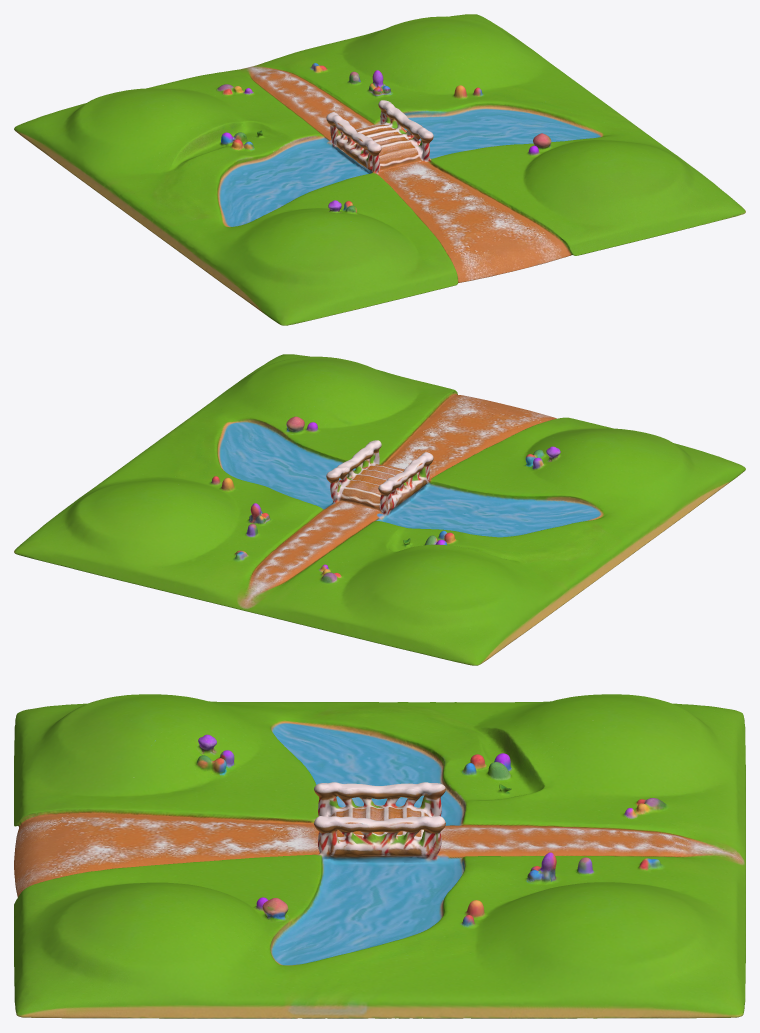
Rendered from SugarBridge-Region2.glb.
3 renders of one model, top to bottom at view 1: azimuth 30°, elevation 25°; view 2: azimuth 150°, elevation 25°; view 3: azimuth 270°, elevation 25°, orthographic. The views are drawn at different scales.
Bounding box in the file's own units: 1.88 × 0.1888 × 1.9.
1 material, 1 textured.
